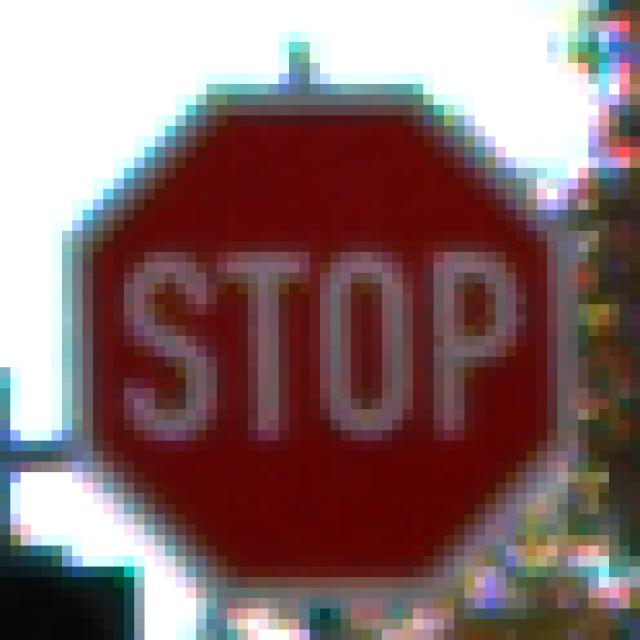STOP: (53, 54, 590, 589)
